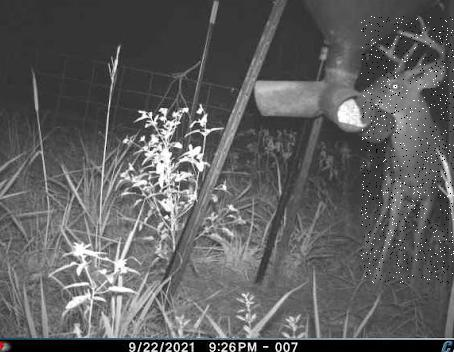Deer: (361, 16, 454, 284)
